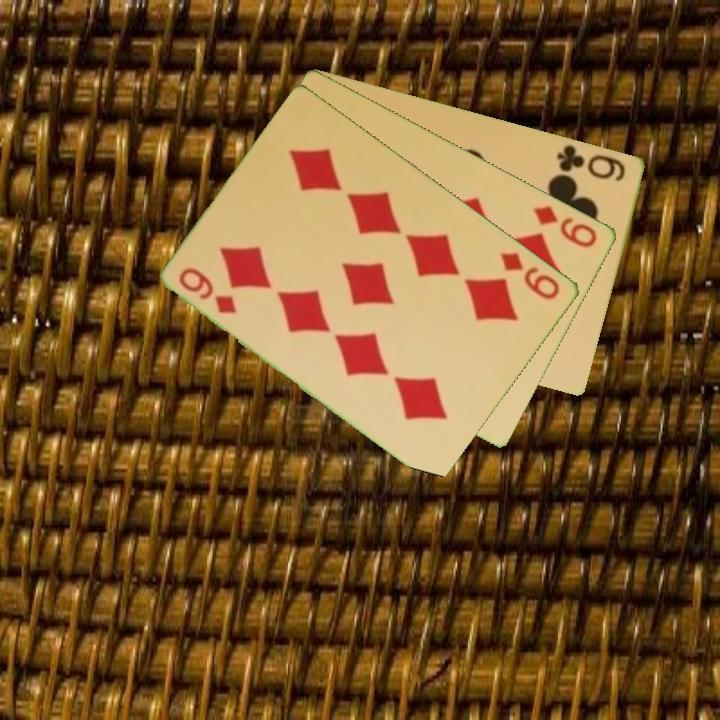6c: (553, 141, 629, 185)
9d: (497, 248, 564, 303), (175, 263, 241, 317), (530, 201, 601, 251)
